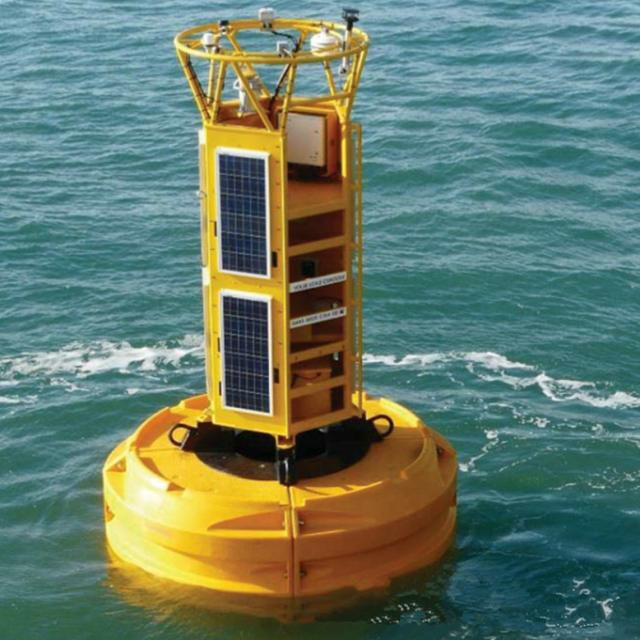buoy: (100, 1, 464, 606)
